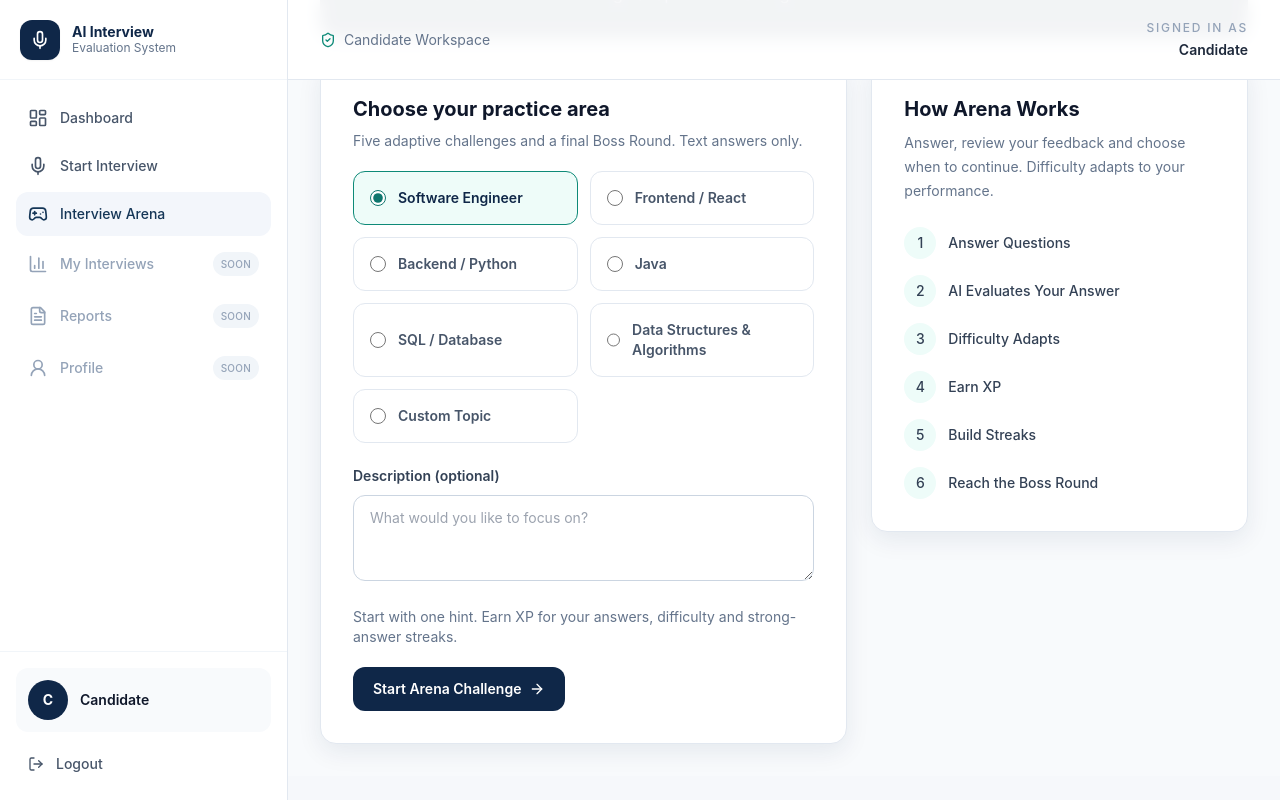
Test: opens Arena in the authenticated layout with working navigation
The image size is (1280, 800).
(page scrolled)
Step 1. Click the button "Start Arena Challenge" → click(459, 689), box [353,667,565,711]
(page scrolled)
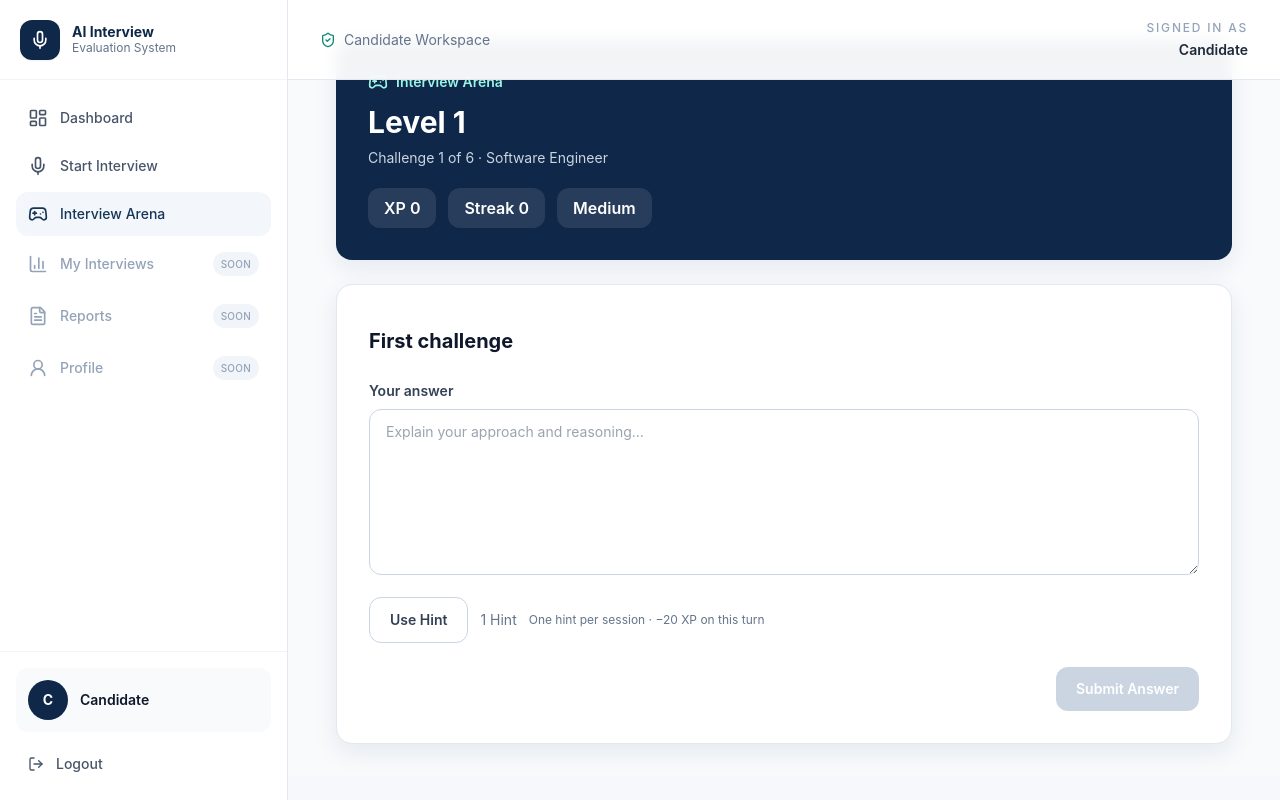
Expected: the heading "Level 1" is shown, [368,104,466,140]
